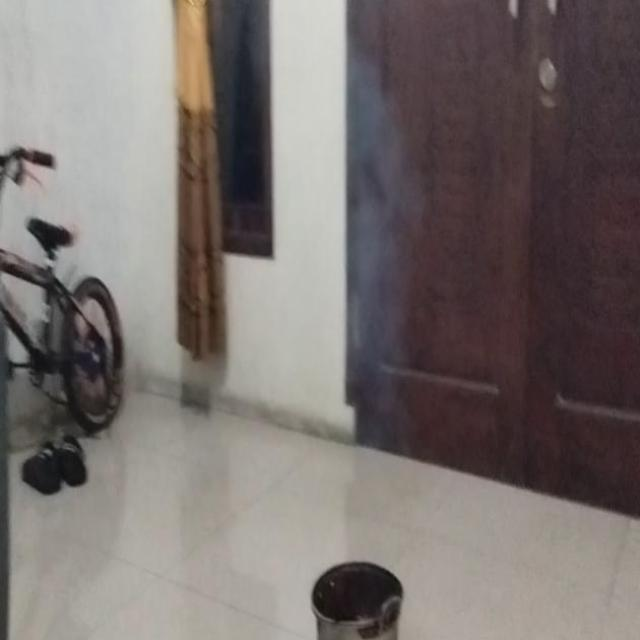fire: (326, 14, 422, 458)
